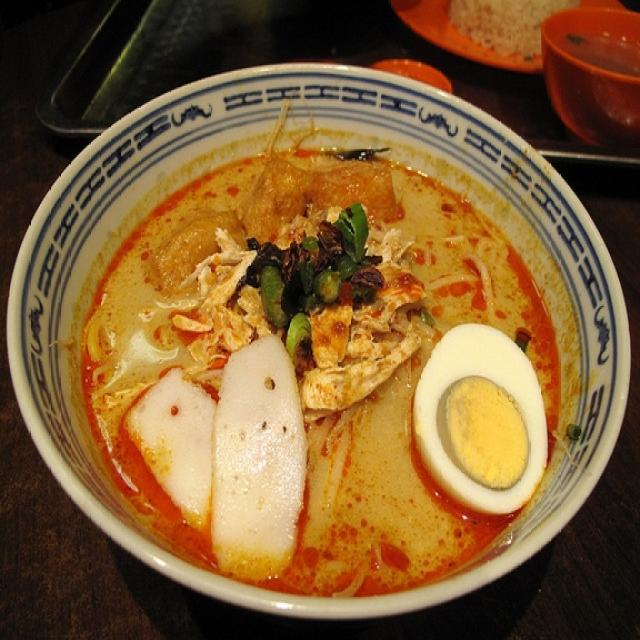面条主食: (50, 37, 620, 610)
